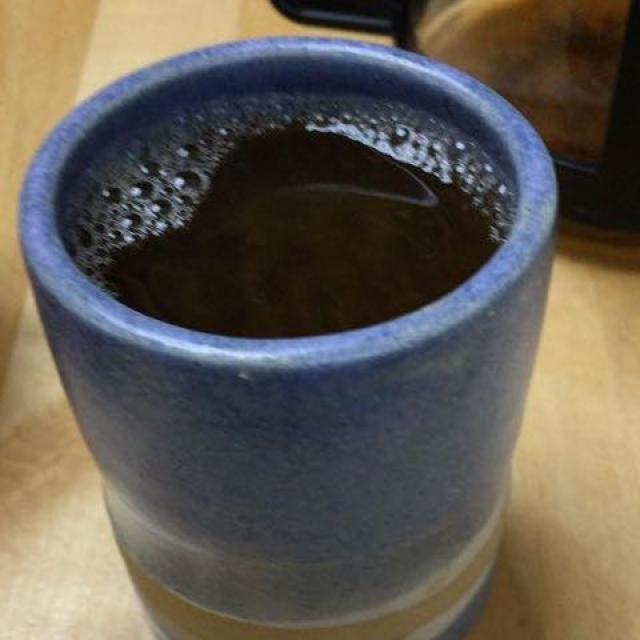tea: (77, 101, 505, 335)
